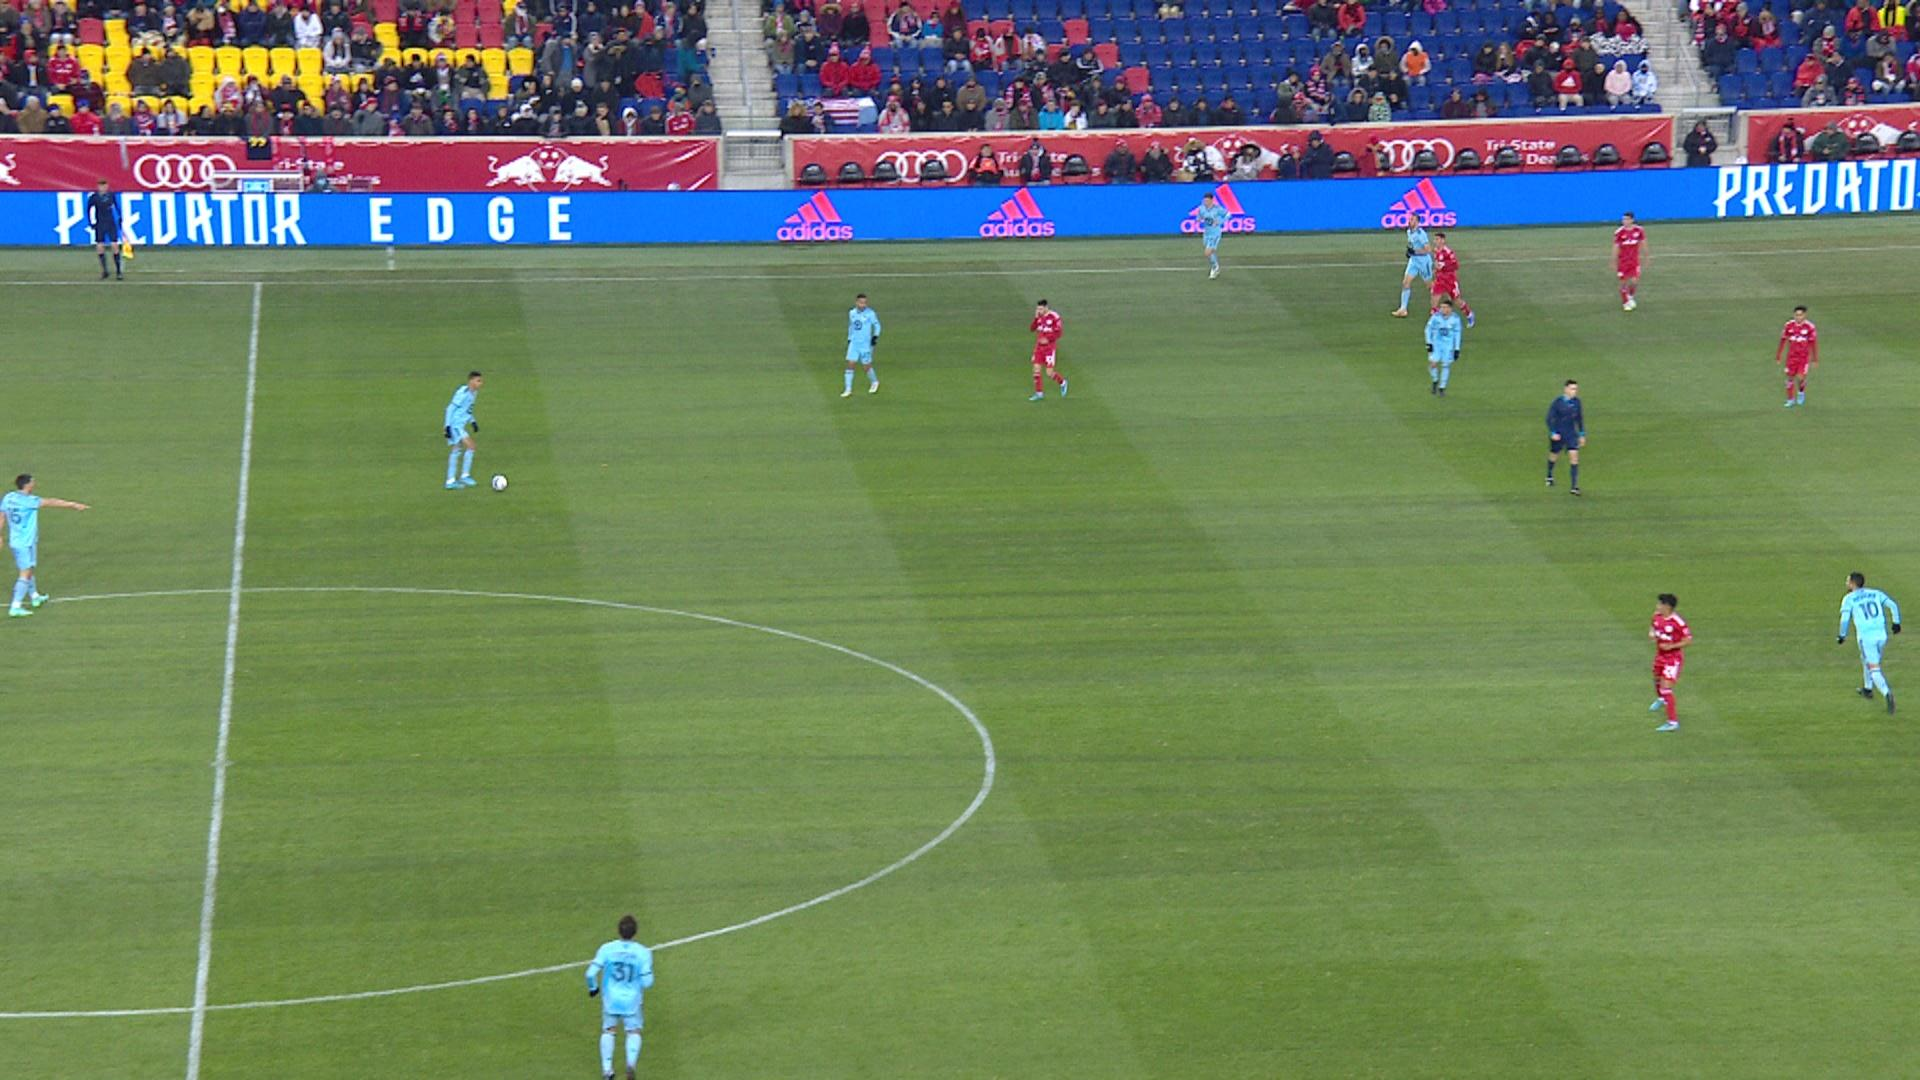football: (491, 472, 509, 491)
